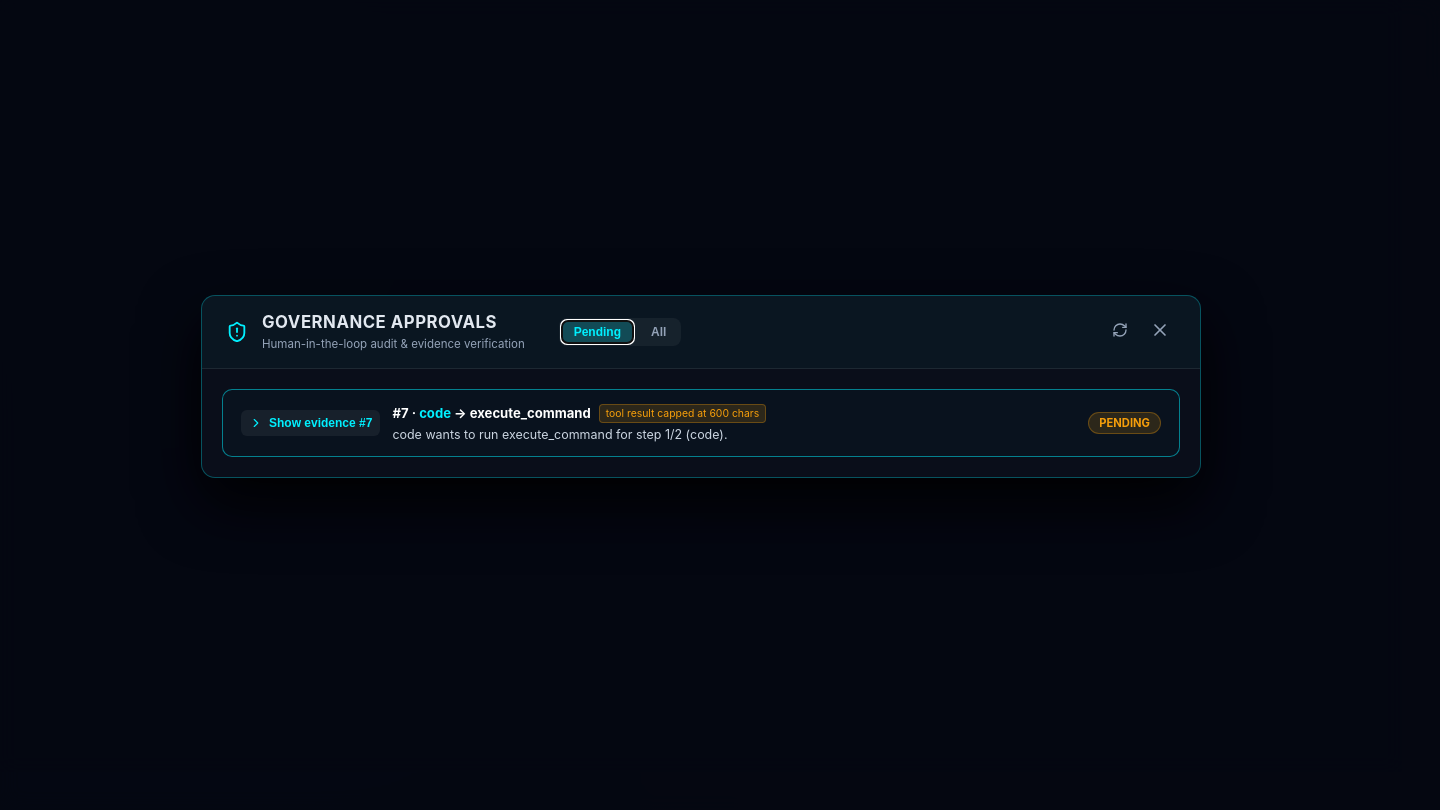
Test case: ApprovalsModal › lazy-loads evidence on expand and shows plan + truncation chip
Click the button "Show evidence #7".
click(311, 422)  # box [241,410,380,436]
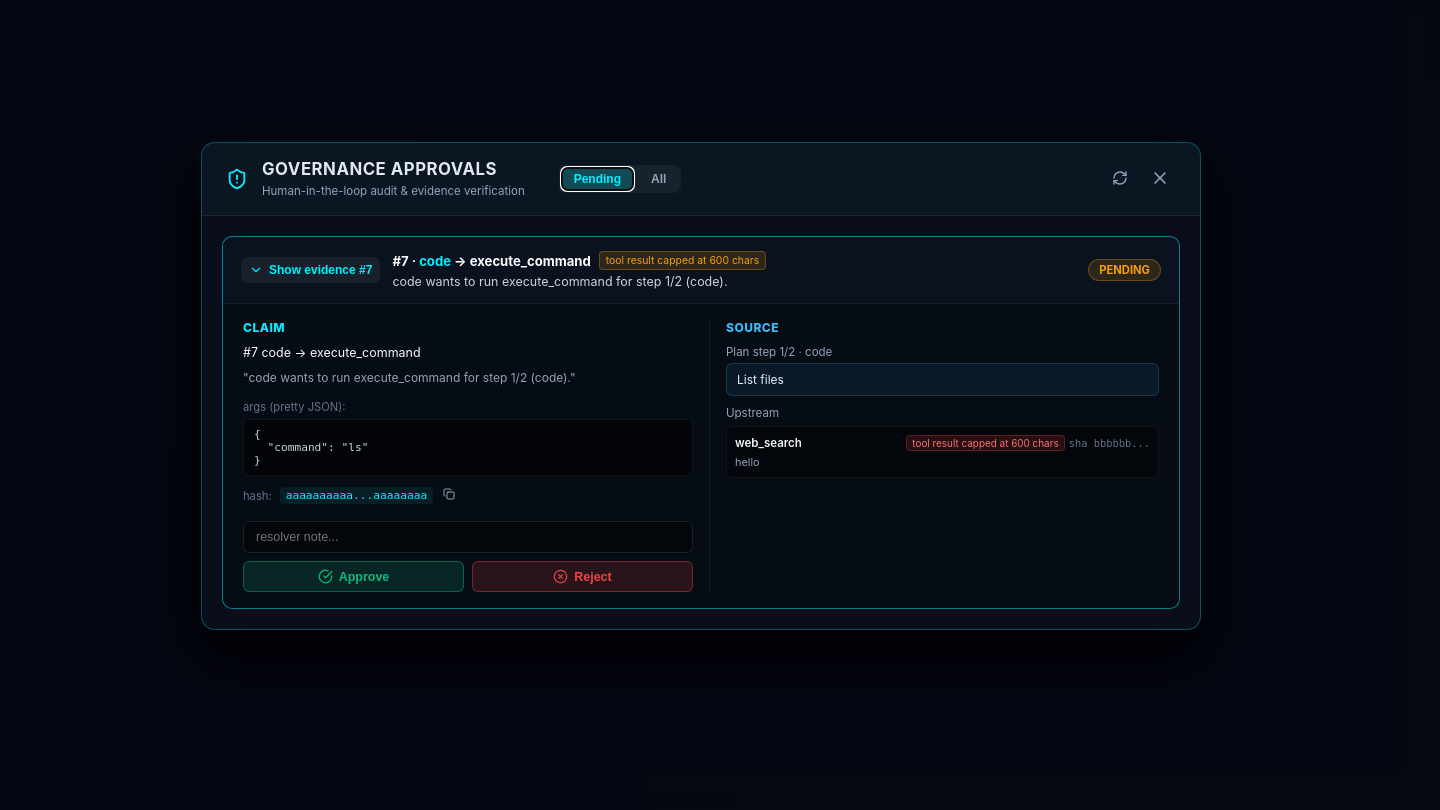
Result: the text "List files" is shown at [726,363,1159,396]
